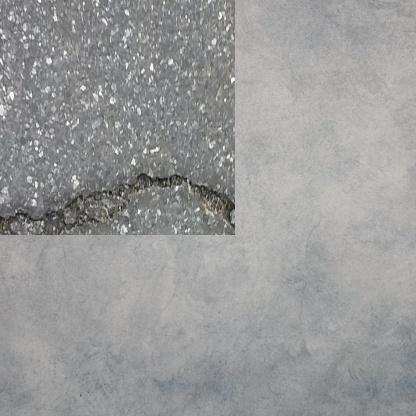Cracks: (0, 158, 217, 217)
